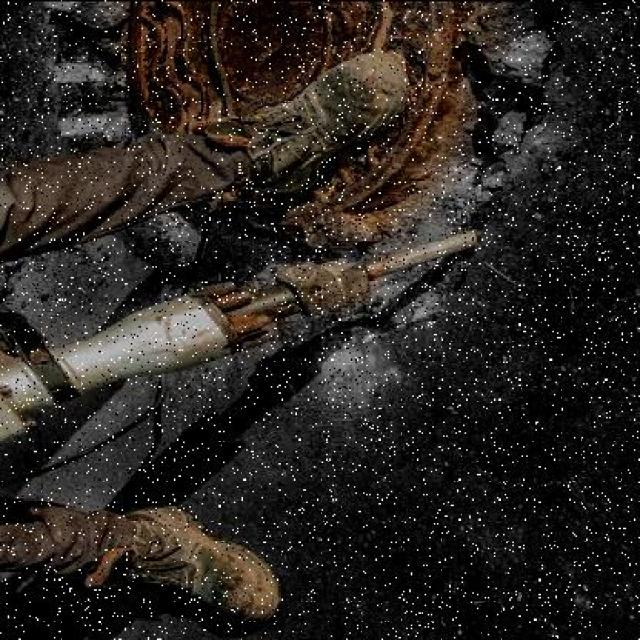shoes: (231, 50, 407, 198), (121, 501, 277, 621)
